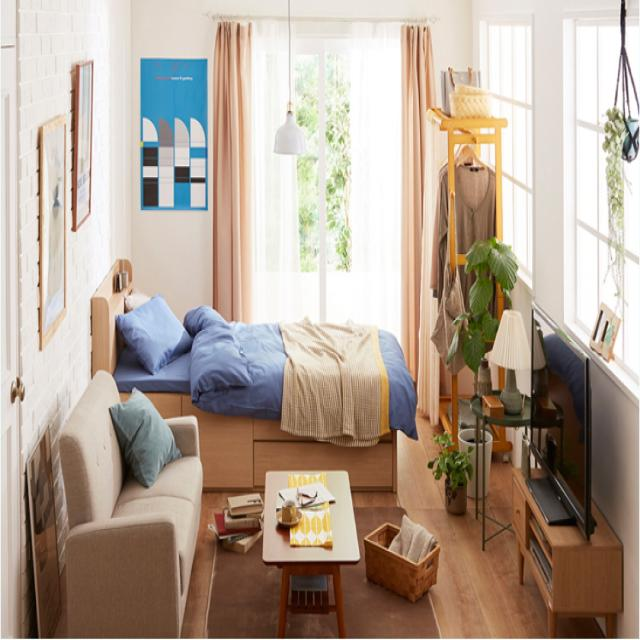modern bed: (93, 241, 404, 494)
modern desk: (260, 461, 361, 631)
modern sofa: (57, 359, 207, 640)
